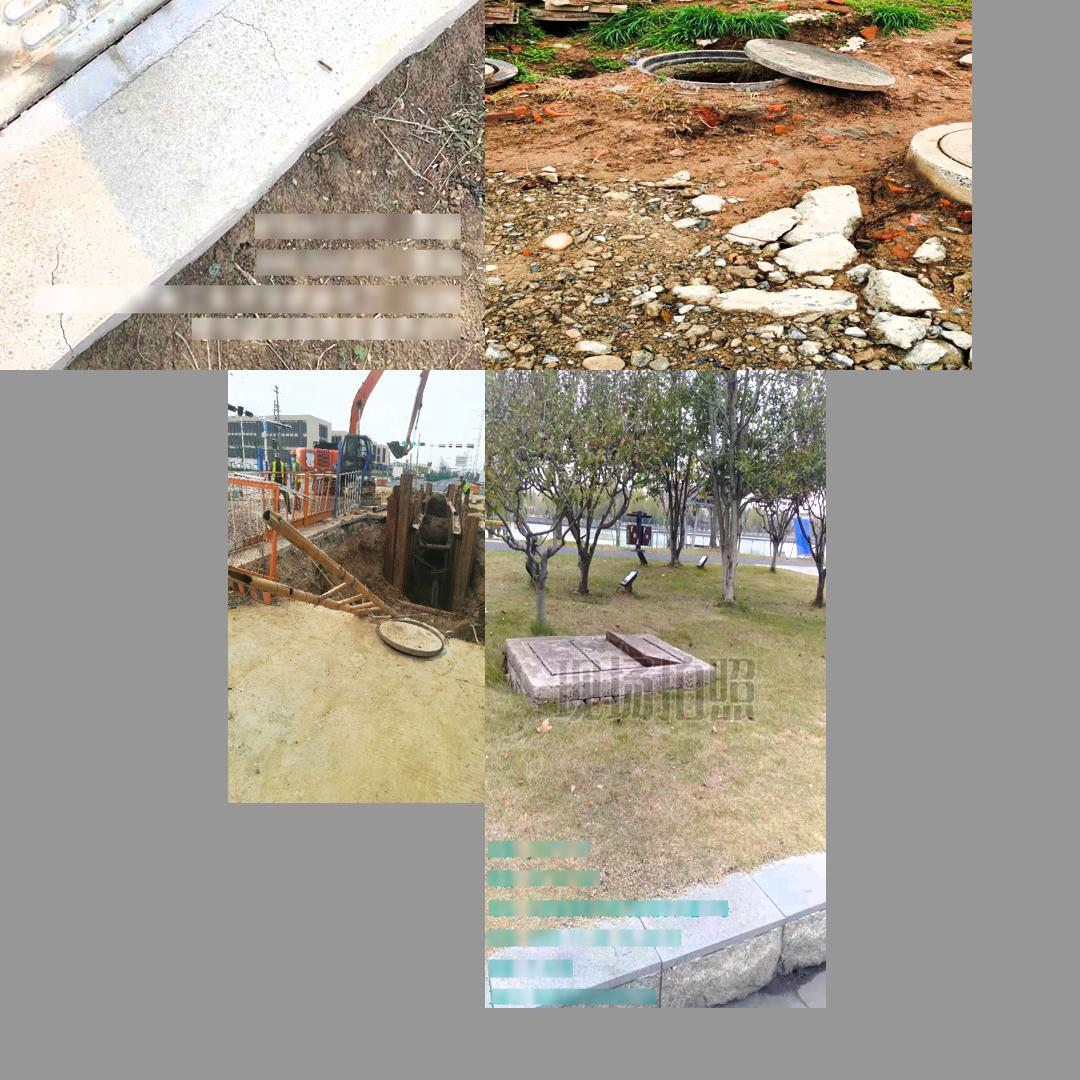uncovered: (0, 0, 482, 326), (613, 31, 907, 93), (508, 626, 731, 687), (378, 615, 451, 657)
